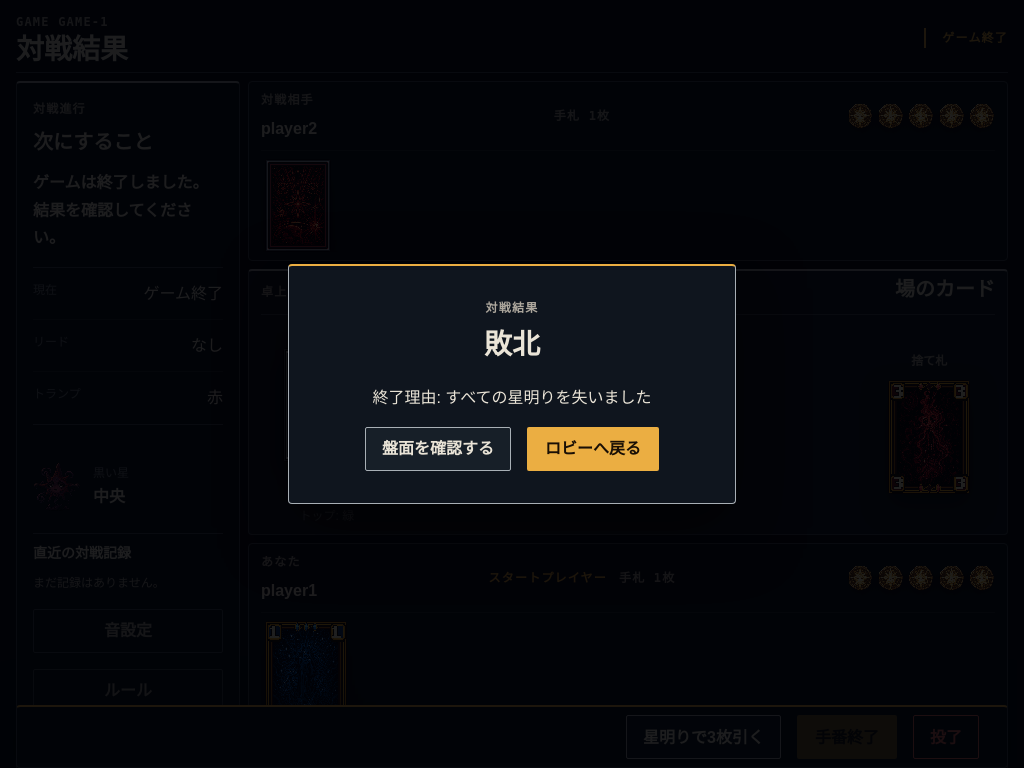
Scenario: GamePage › ゲーム終了後に結果を閉じて盤面を確認し、再表示できる
The width and height of the screenshot is (1024, 768).
Click the button "盤面を確認する" at x=438, y=449, box [365,427,511,471]
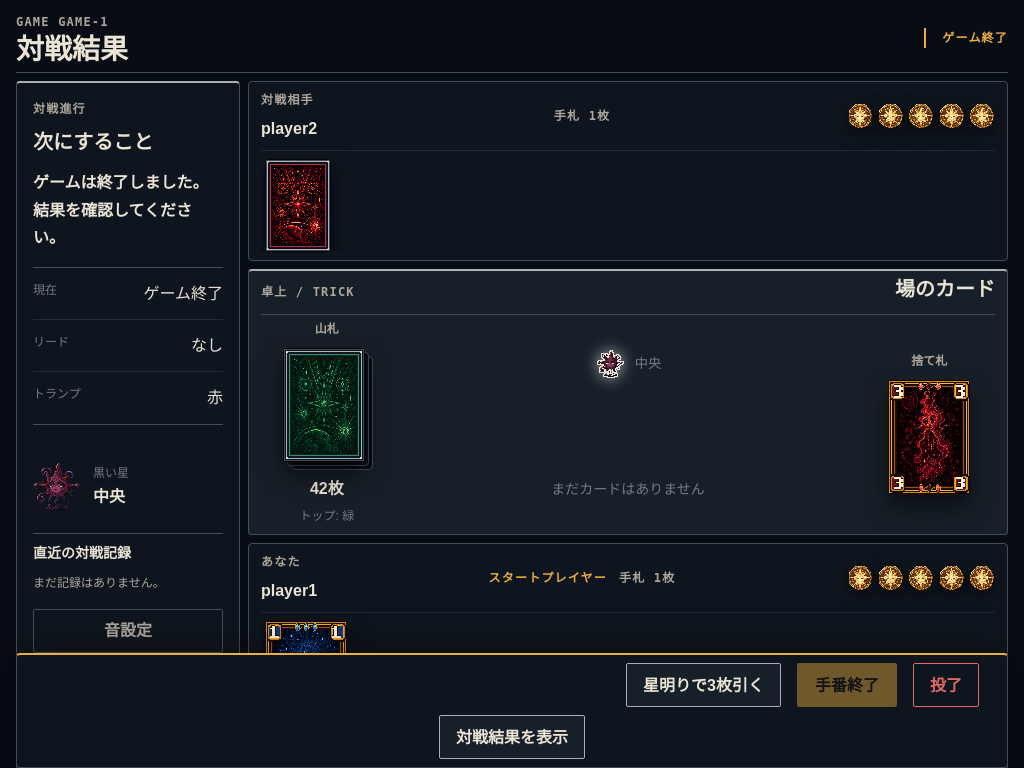
Expected: the heading "敗北" is gone
Click the button "対戦結果を表示" at x=512, y=737, box [439,715,585,759]
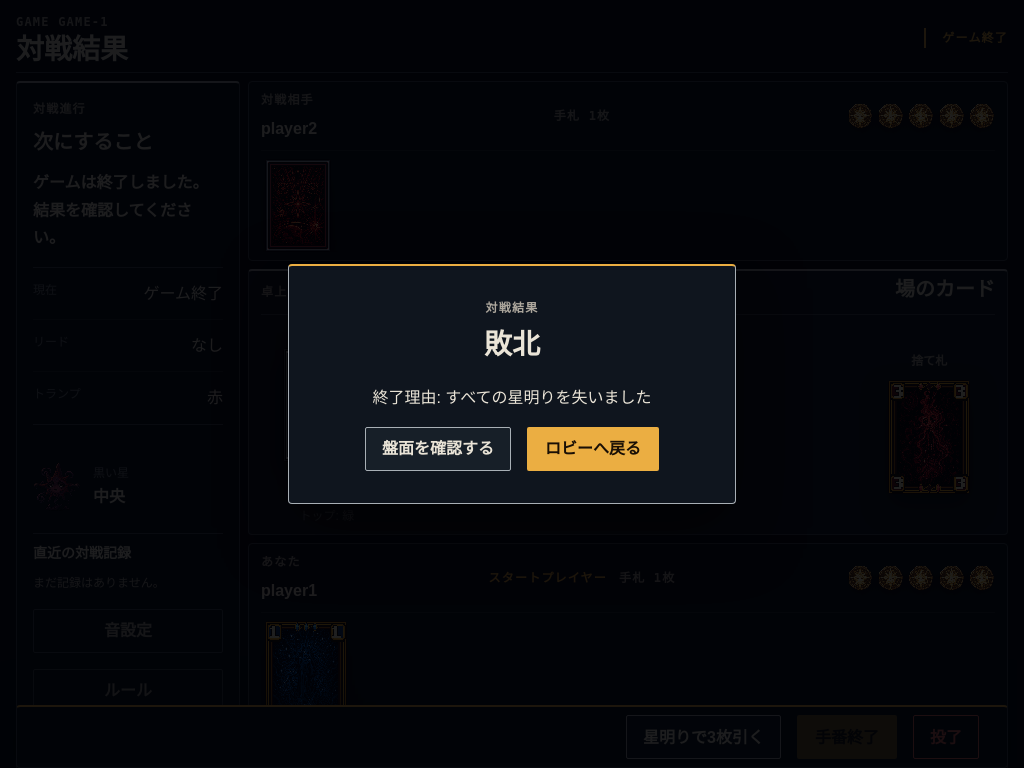
Expected: the heading "敗北" is shown, [484,329,540,360]
